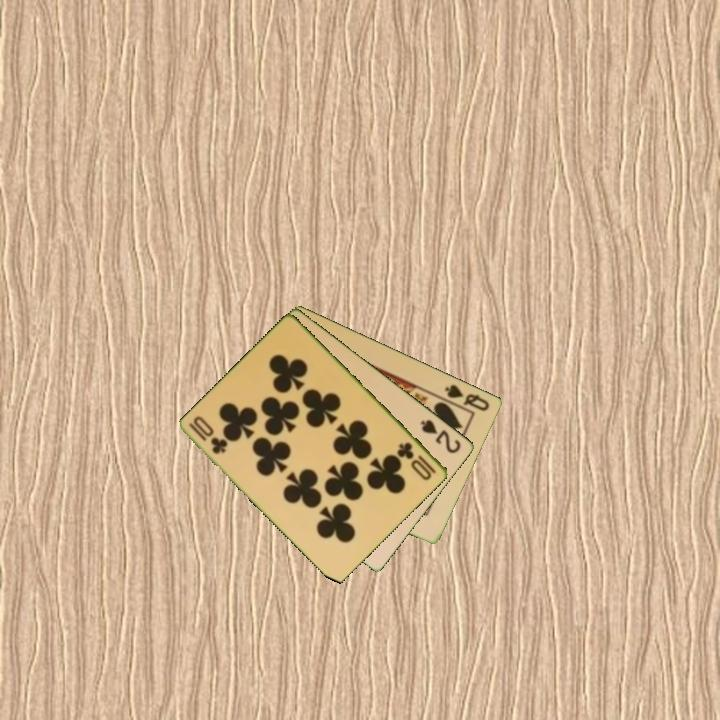10c: (394, 438, 440, 483), (186, 419, 231, 457)
2s: (417, 416, 464, 456)
Qs: (441, 381, 493, 414)
